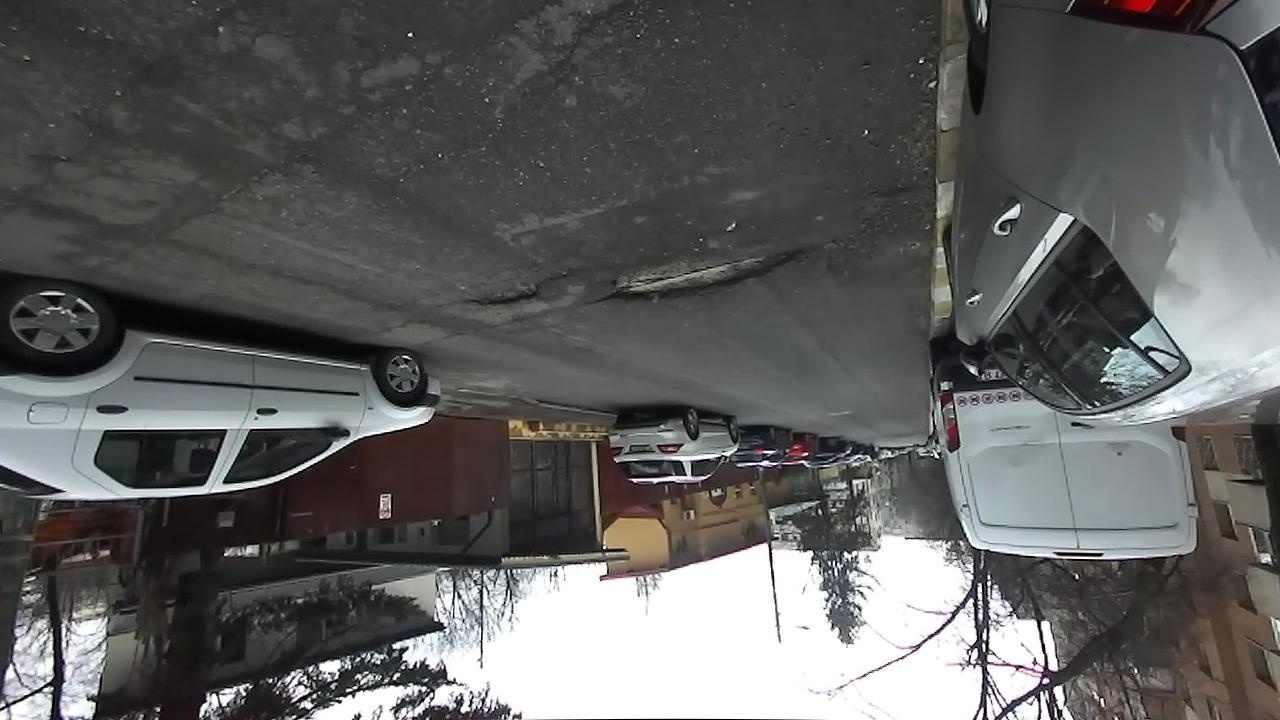pothole: (586, 241, 818, 309), (458, 268, 578, 312)
